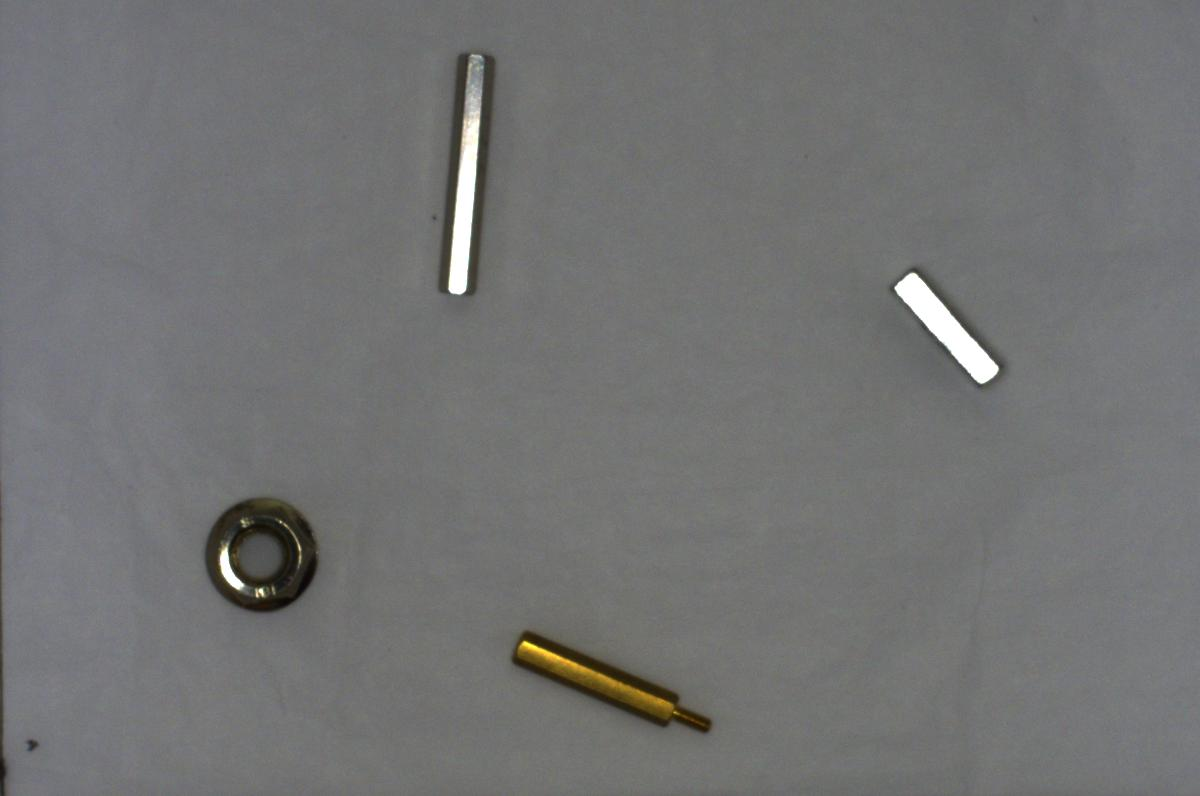Double hexagonal column: (420, 40, 498, 302)
Flange nut: (186, 486, 332, 616)
Hexagon pillar: (499, 618, 717, 746)
Rectangular nut: (885, 250, 1008, 394)
